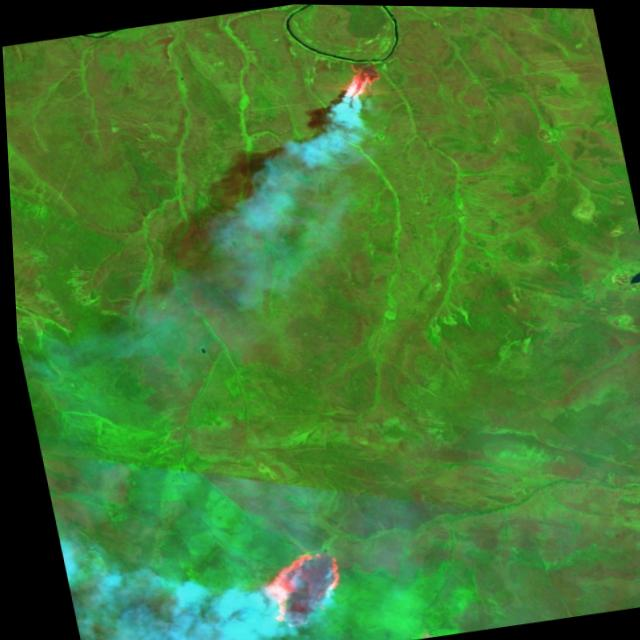fire: (234, 533, 353, 640), (326, 49, 400, 107)
